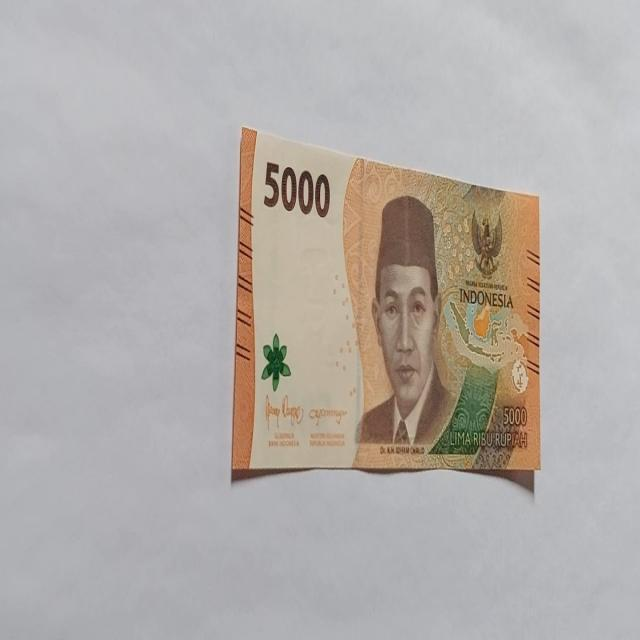lima ribu rupiah: (231, 125, 541, 482), (353, 194, 457, 451)
